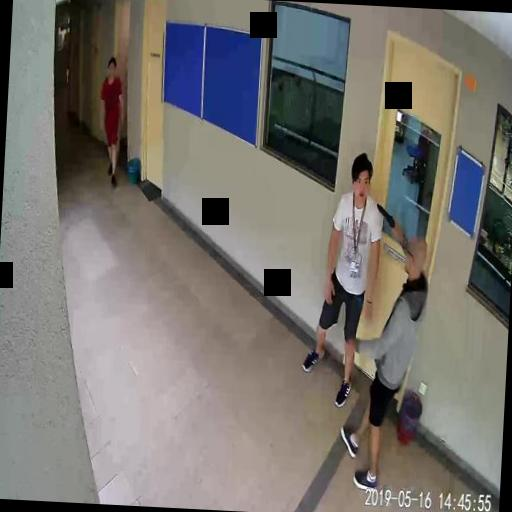Handgun: (374, 202, 398, 232)
